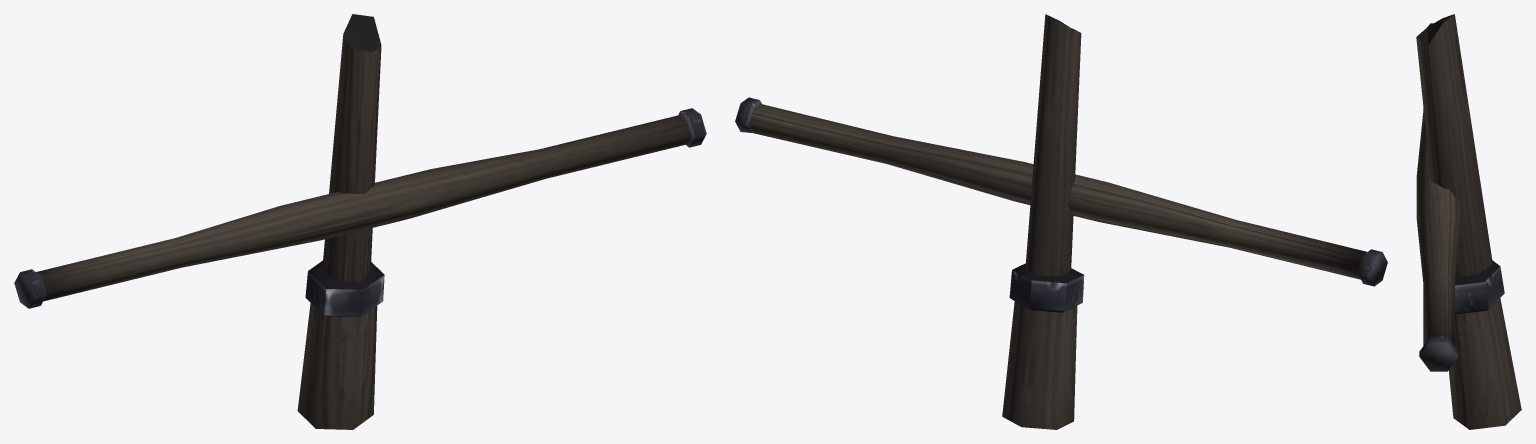
The model's file is yw_bingyuan_weigan_001.FBX.
The picture shows the model from 3 angles, left to right: view 1: azimuth 30°, elevation 25°; view 2: azimuth 150°, elevation 25°; view 3: azimuth 270°, elevation 25°; orthographic projection. The views are drawn at different scales.
Visible parts, largest first — view 1: yw_bingyuan_weigan_001; view 2: yw_bingyuan_weigan_001; view 3: yw_bingyuan_weigan_001.
Boxes of the visible parts, left/top/right/bottom form: yw_bingyuan_weigan_001: left=14, top=14, right=706, bottom=429; yw_bingyuan_weigan_001: left=735, top=14, right=1387, bottom=429; yw_bingyuan_weigan_001: left=1416, top=14, right=1521, bottom=429.
Bounding box in the file's own units: 25.84 × 3.61 × 15.26.
